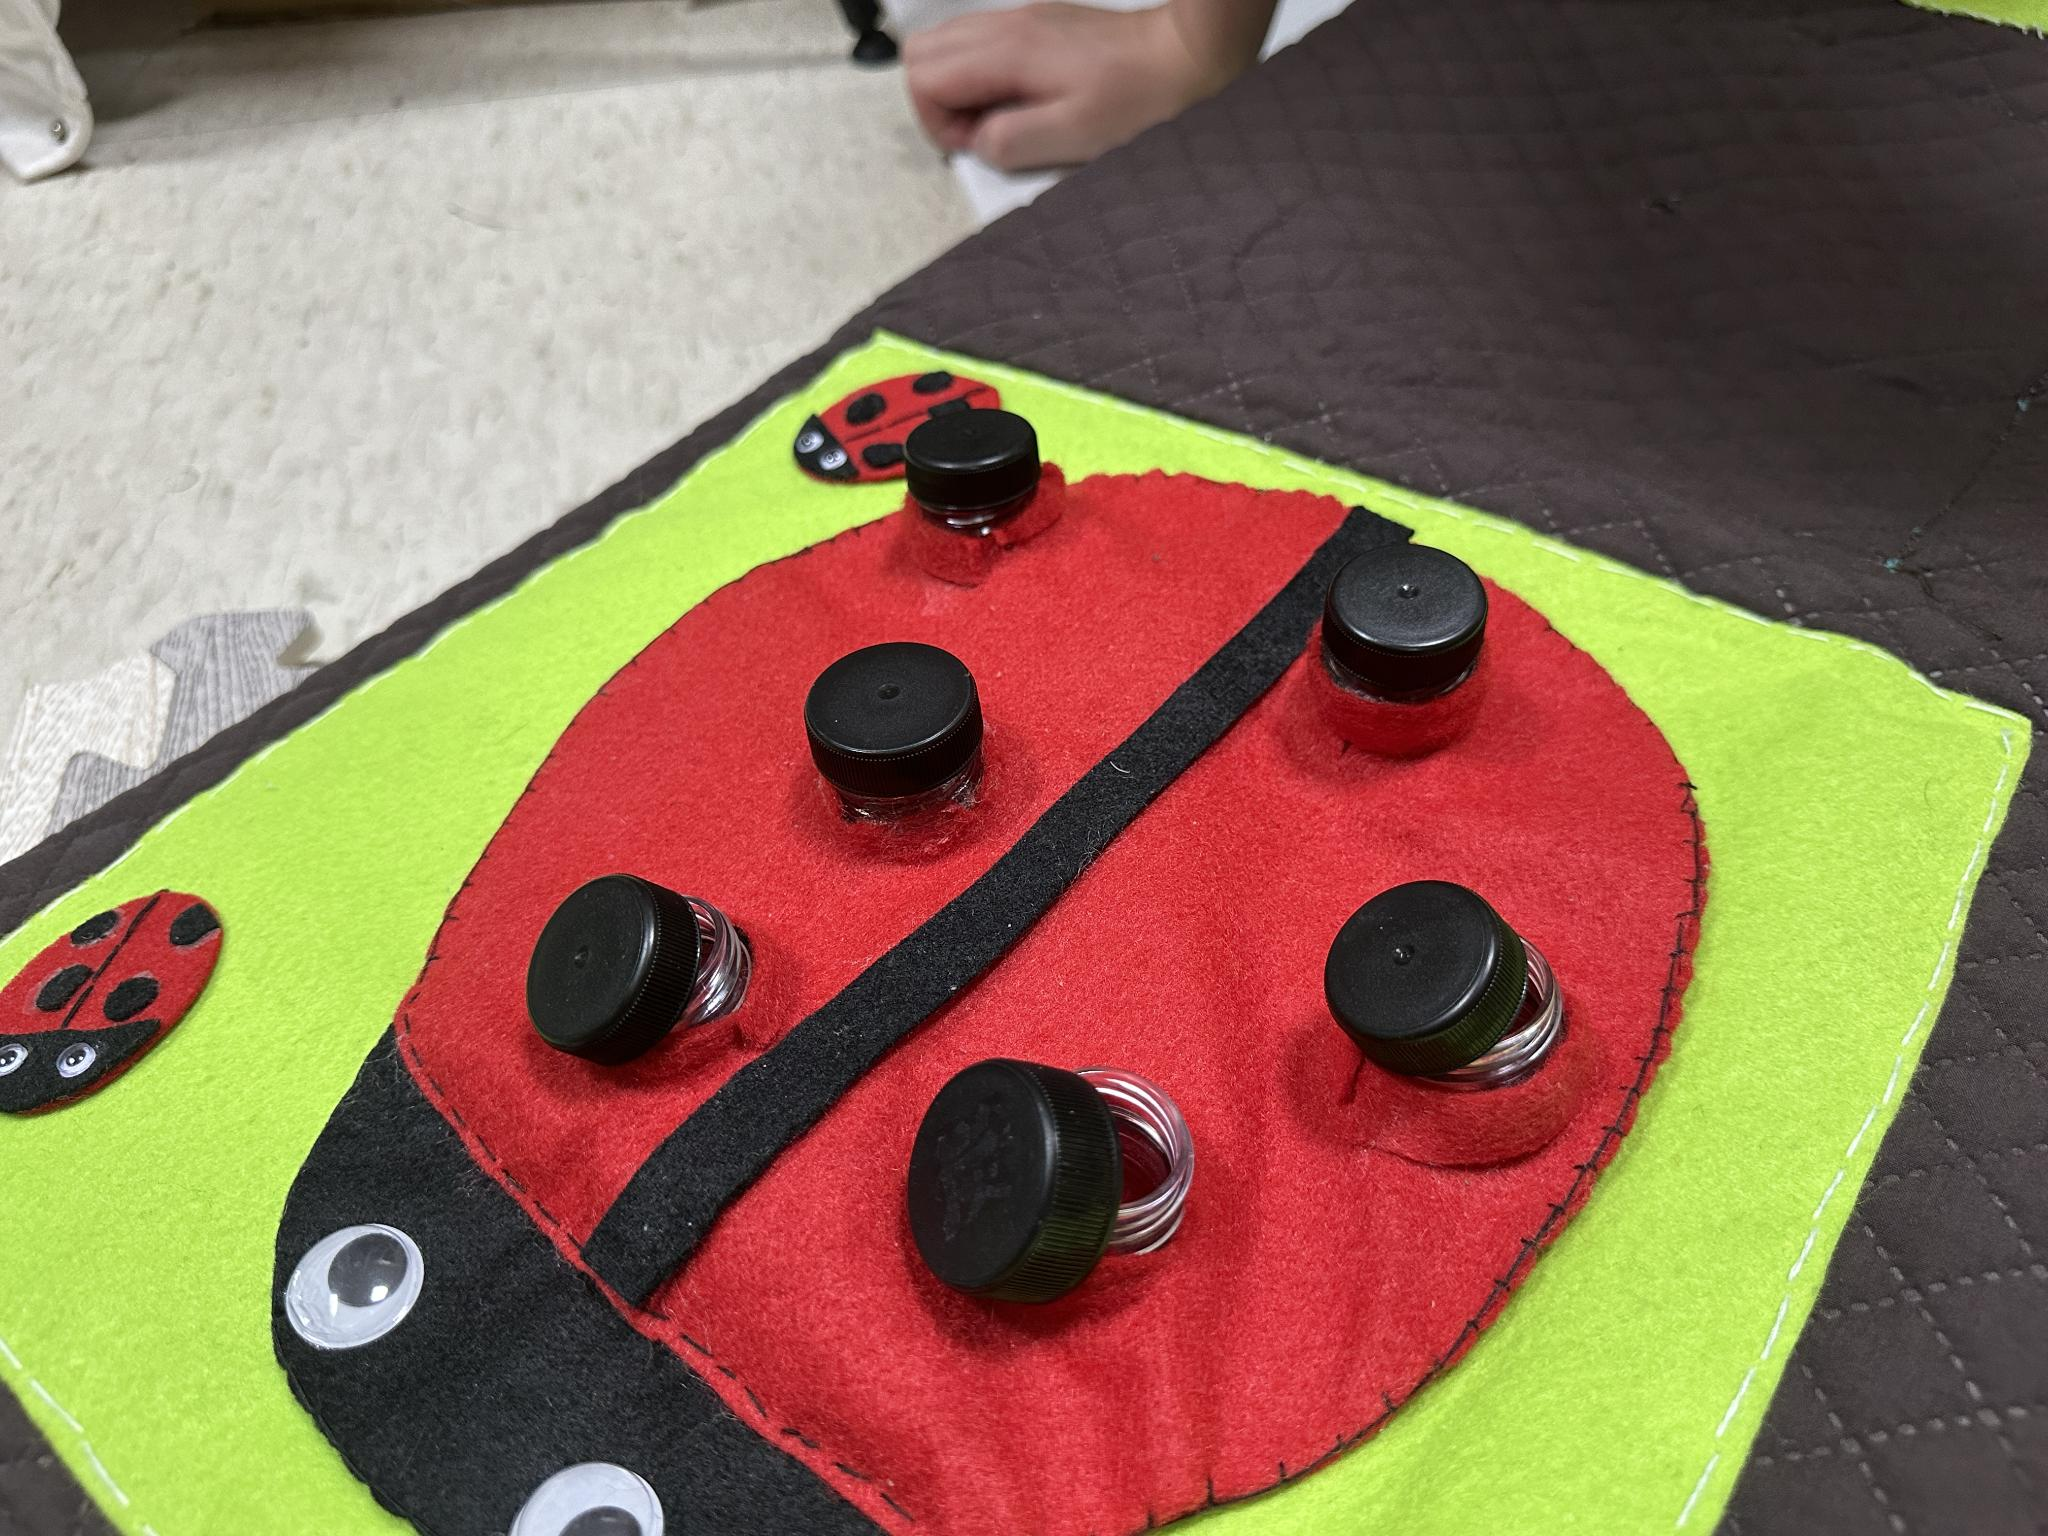cap_ng: (871, 1012, 1240, 1367), (485, 855, 784, 1094)
cap_ok: (1290, 508, 1516, 773), (782, 621, 1016, 868), (892, 387, 1071, 578)
